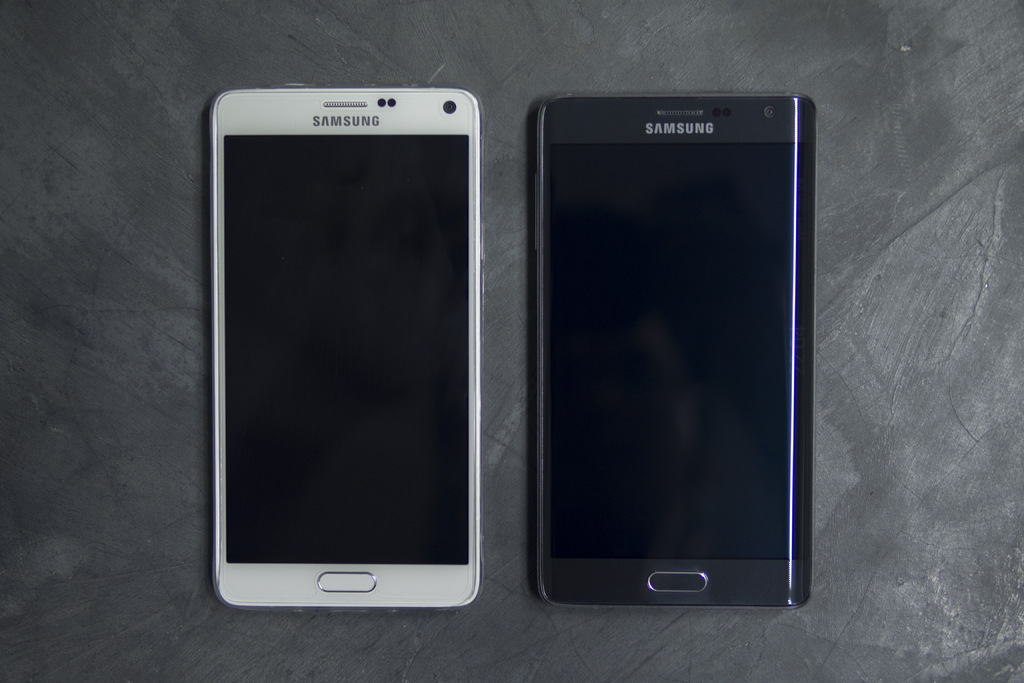Mobile-phone: (208, 81, 491, 612), (535, 93, 813, 609)
